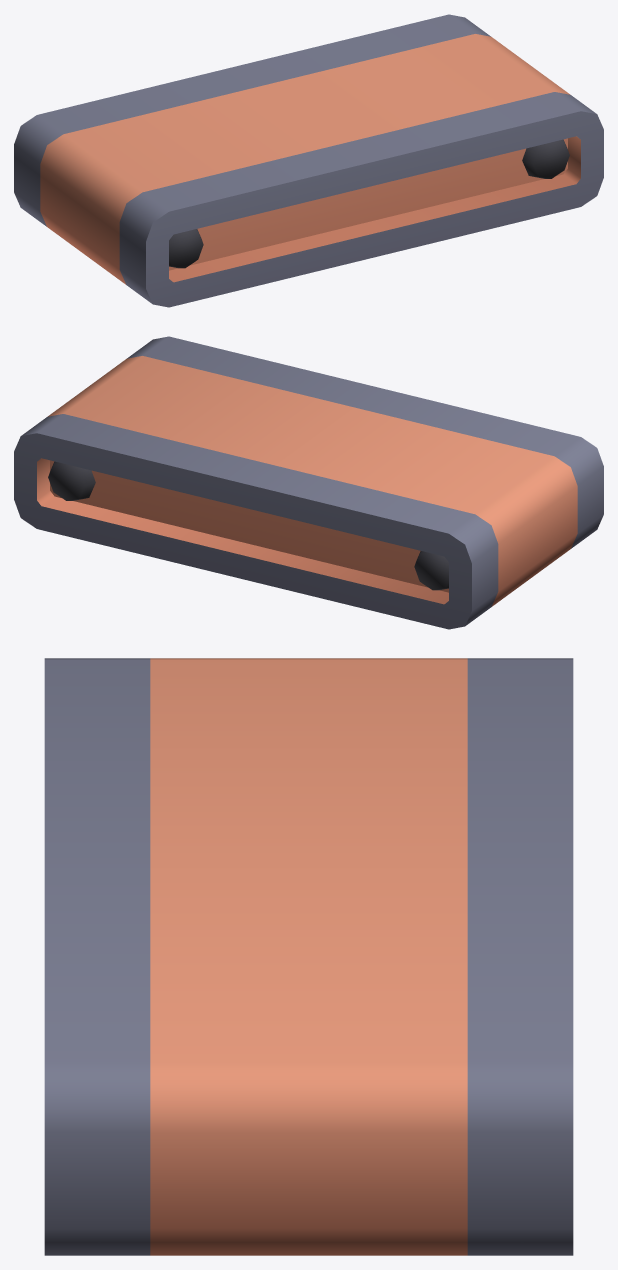
The model's file is conveyor-long-stripe.obj.
3 renders of one model, top to bottom at view 1: azimuth 30°, elevation 25°; view 2: azimuth 150°, elevation 25°; view 3: azimuth 270°, elevation 25°, orthographic. The views are drawn at different scales.
Parts seen in each view (by area): view 1: conveyor-long-stripe; view 2: conveyor-long-stripe; view 3: conveyor-long-stripe.
Part boxes in pixels (bbox=[...]): conveyor-long-stripe: bbox=[14, 14, 603, 307]; conveyor-long-stripe: bbox=[14, 336, 603, 629]; conveyor-long-stripe: bbox=[44, 658, 573, 1255].
Size of the model in its own units: 2 by 0.4 by 1.
